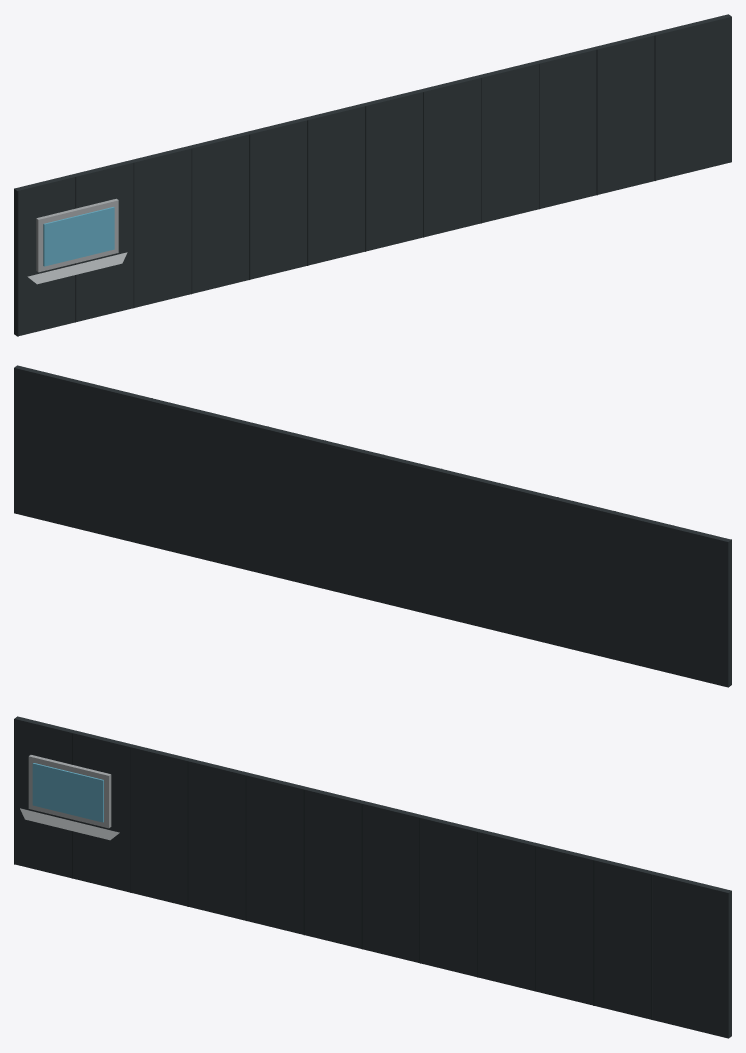
Rendered from bang_sua_may_minh_40.glb.
3 renders of one model, top to bottom at view 1: azimuth 30°, elevation 25°; view 2: azimuth 150°, elevation 25°; view 3: azimuth 330°, elevation 25°, orthographic.
Visible parts, largest first — view 1: bang_sua_may_minh_40; view 2: bang_sua_may_minh_40; view 3: bang_sua_may_minh_40.
Boxes of the visible parts, bbox=[...] form: bang_sua_may_minh_40: bbox=[14, 14, 731, 336]; bang_sua_may_minh_40: bbox=[14, 365, 731, 687]; bang_sua_may_minh_40: bbox=[14, 716, 731, 1038].
Size of the model in its own units: 3.7 by 0.72 by 0.07.
